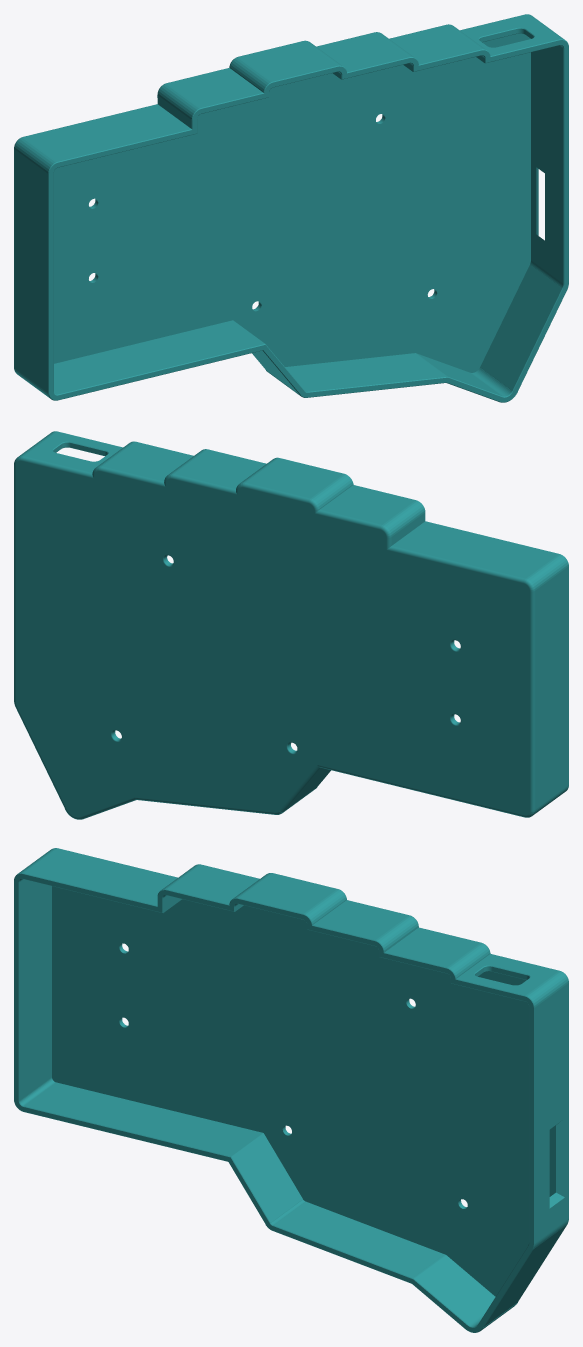
The model's file is case-bottom-3dp.glb.
3 renders of one model, top to bottom at view 1: azimuth 30°, elevation 25°; view 2: azimuth 150°, elevation 25°; view 3: azimuth 330°, elevation 25°, orthographic.
Bounding box in the file's own units: 0.1379 × 0.0956 × 0.0165.
